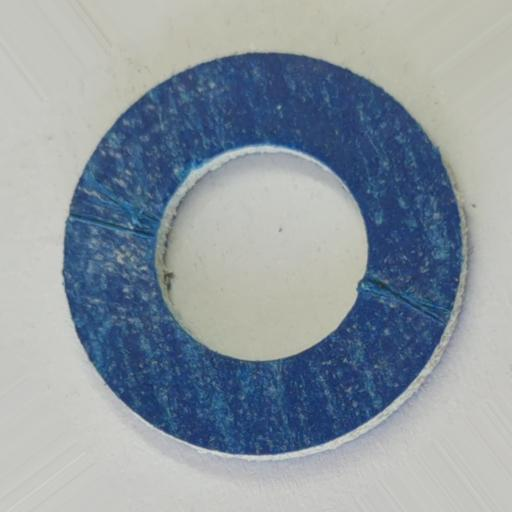defect: (67, 182, 160, 238), (361, 277, 450, 324)
